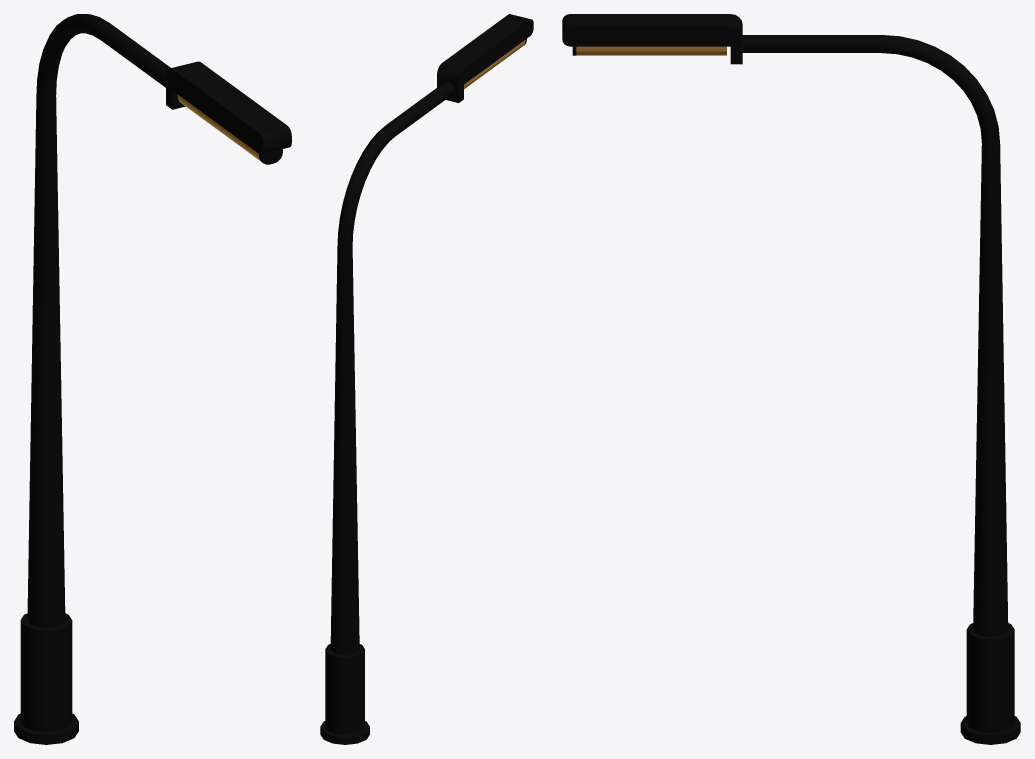
Rendered from farolaobj.obj.
The picture shows the model from 3 angles, left to right: view 1: azimuth 30°, elevation 25°; view 2: azimuth 150°, elevation 25°; view 3: azimuth 270°, elevation 25°; orthographic projection. The views are drawn at different scales.
Visible parts, largest first — view 1: FarolaModernaRodonaDe1.003; view 2: FarolaModernaRodonaDe1.003; view 3: FarolaModernaRodonaDe1.003.
Boxes of the visible parts, x1,y1,x2,y2 form: FarolaModernaRodonaDe1.003: (14,14,291,744); FarolaModernaRodonaDe1.003: (320,14,533,744); FarolaModernaRodonaDe1.003: (562,14,1020,744).
Size of the model in its own units: 0.26 by 3.4 by 1.98.
